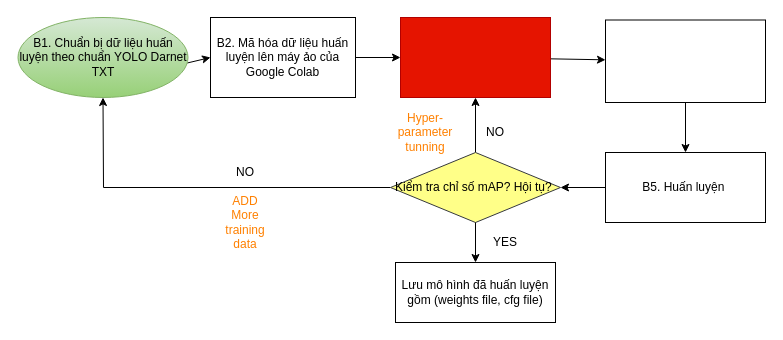
This 783x340 diagram has some shape labels left out. The shapes that lost their labels are listed below. From the top down, each one's centre as x and y in pixels, then its label:
At pixel 475 57: "B3. Cấu hình các files huấn luyện: 1. File CFG 2. Obj.names 3. Obj.data".
At pixel 685 60: "B4. Tải file pretrained weights cho YOLOv4-tiny là yolov4-tiny.conv.29".
